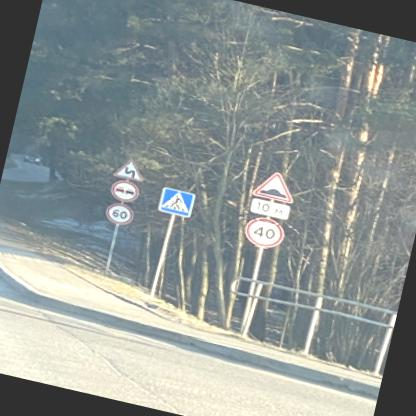crosswalk: (156, 184, 194, 216)
speedlimit: (241, 214, 283, 247), (102, 198, 134, 225)
